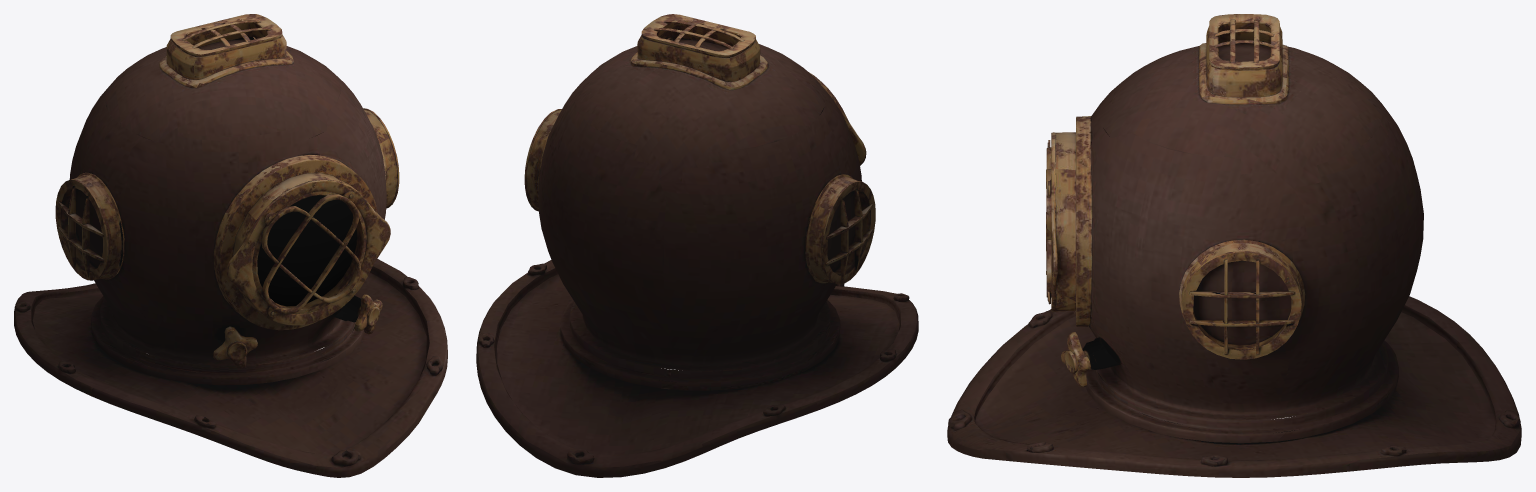
The model's file is diving_helmet.glb.
3 views of the same model, side by side, from view 1: azimuth 30°, elevation 25°; view 2: azimuth 150°, elevation 25°; view 3: azimuth 270°, elevation 25° (orthographic). The views are drawn at different scales.
Visible parts, largest first — view 1: escafandra_base, escafandra_accesorios, escafandra_vidrio; view 2: escafandra_base, escafandra_accesorios; view 3: escafandra_base, escafandra_accesorios.
Part boxes in pixels (x1,y1,x2,y2): escafandra_base: (14, 39, 447, 477); escafandra_accesorios: (55, 14, 399, 368); escafandra_vidrio: (257, 195, 356, 306); escafandra_base: (476, 39, 918, 477); escafandra_accesorios: (524, 14, 875, 284); escafandra_base: (947, 43, 1521, 477); escafandra_accesorios: (1046, 14, 1305, 386).
Bounding box in the file's own units: 2.49 × 2.32 × 2.98.
3 materials, 2 textured.
